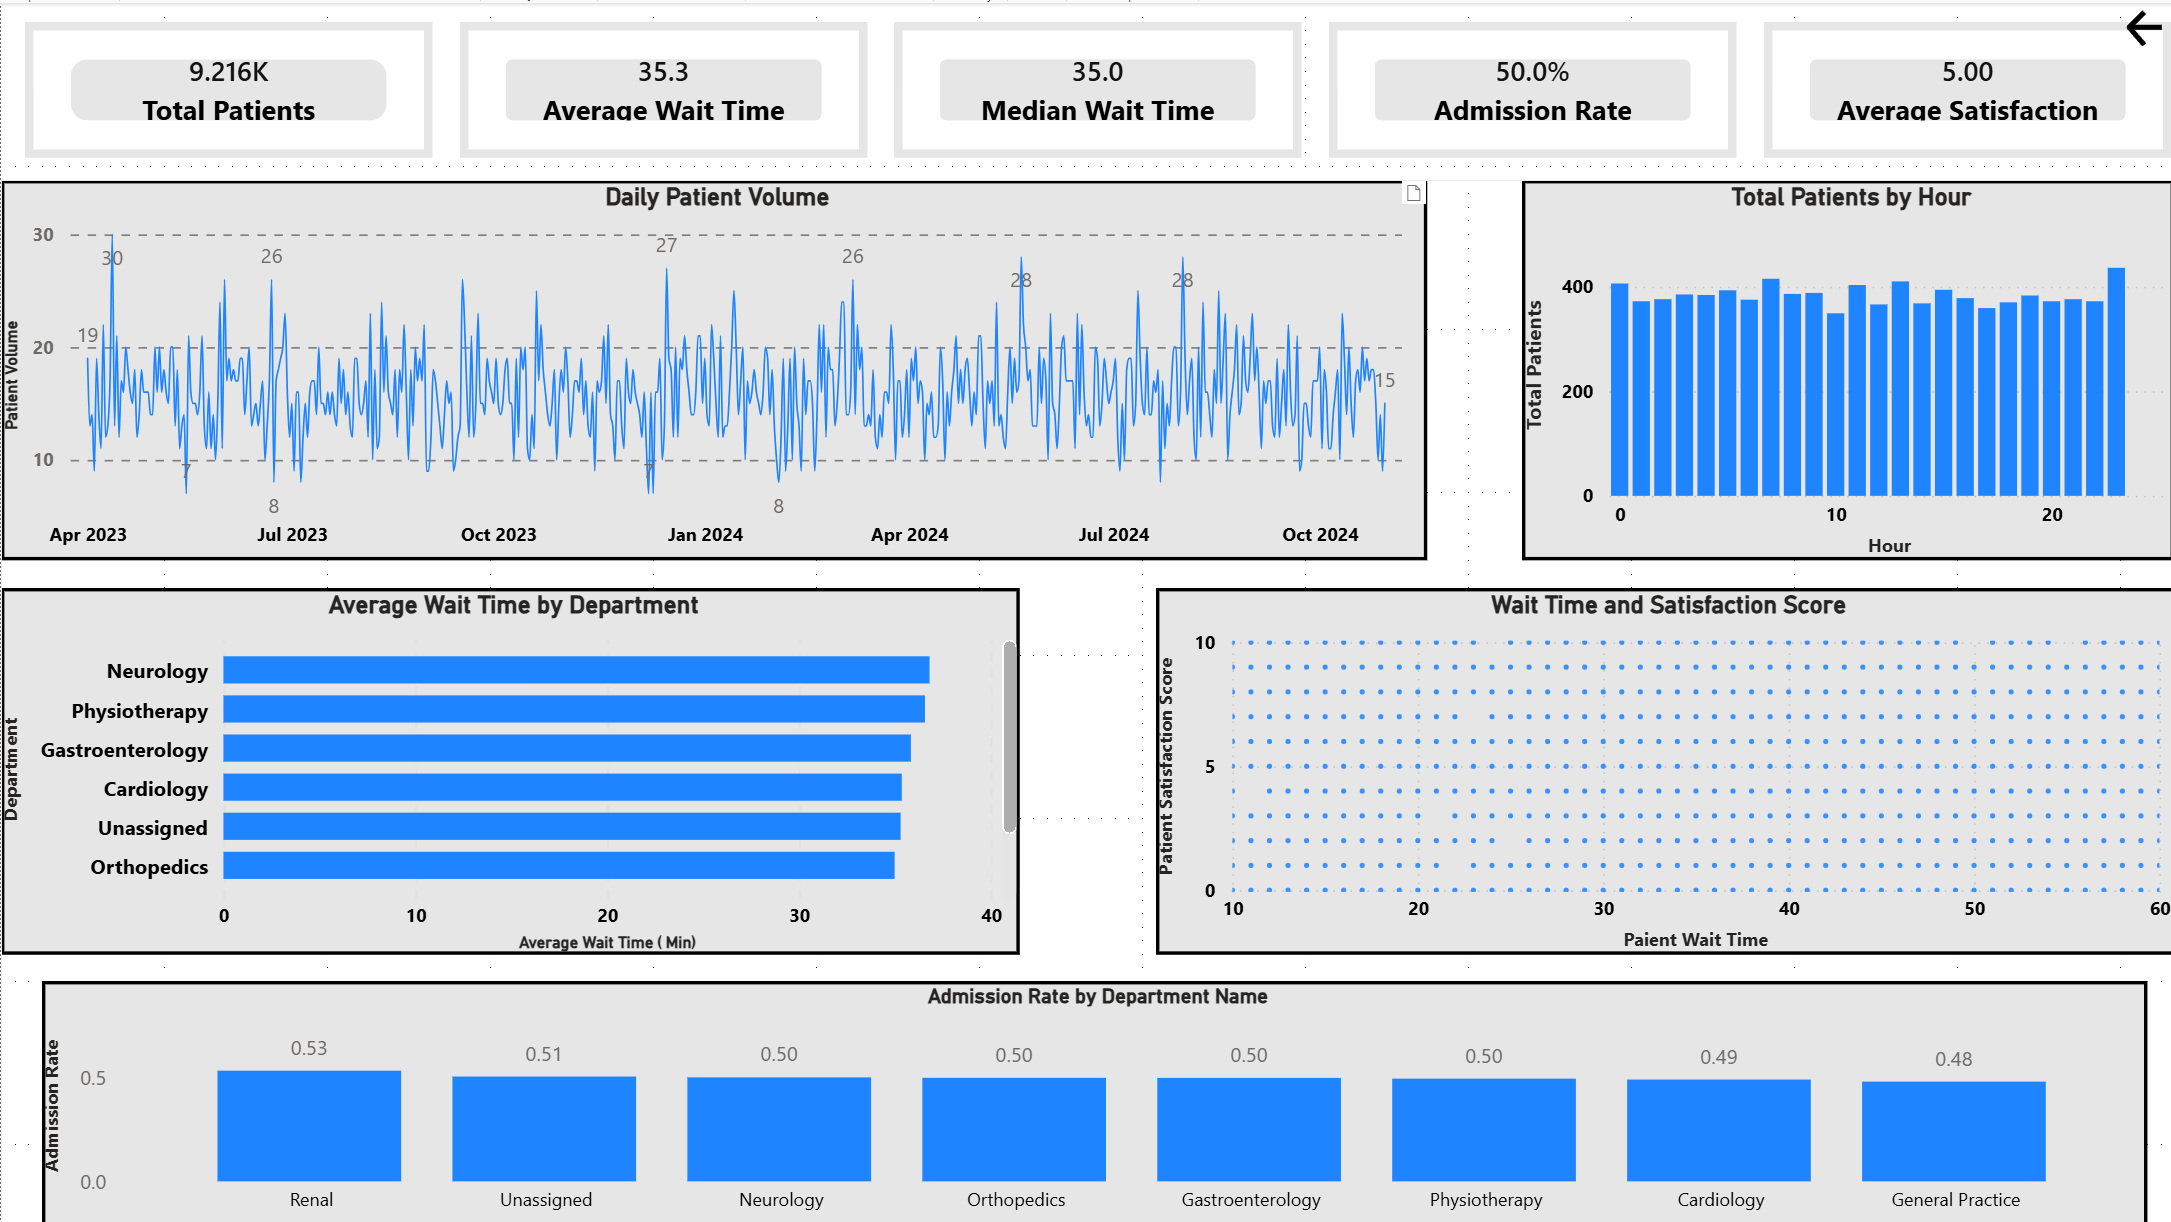

What the dashboard file says about the page in this screenshot:
{"tool":"powerbi","page":{"name":"Patient Flow Overview","canvas":[1280,720],"ordinal":0},"visuals":[{"type":"group","id":"g1","title":"KPIs","box":[14.4,11.3,1264,80],"z":0},{"type":"cardVisual","fields":{"Data":["Fact_PatientFlow.Total Patients"]},"box":[14.4,11.3,240,80],"z":0,"group":"g1"},{"type":"lineChart","title":"Daily Patient Volume","fields":{"Y":["Fact_PatientFlow.Daily Patient Volume"],"Category":["dim_Date.Date"]},"box":[0,104,840,224],"z":0,"group":"g2"},{"type":"cardVisual","fields":{"Data":["Fact_PatientFlow.Average Wait Time"]},"box":[270.4,11.3,240,80],"z":1000,"group":"g1"},{"type":"columnChart","fields":{"Category":["dim_Time.Hour"],"Y":["Fact_PatientFlow.Total Patients"]},"box":[896,104,384,224],"z":1000,"group":"g2"},{"type":"cardVisual","fields":{"Data":["Fact_PatientFlow.Average Satisfaction"]},"box":[1038.4,11.3,240,80],"z":2000,"group":"g1"},{"type":"group","id":"g2","title":"Charts","box":[0,104,1280,616],"z":2000},{"type":"barChart","title":"Average Wait Time by Department","fields":{"Y":["Fact_PatientFlow.Average Wait Time"],"Category":["dim_Department.Department Name"]},"box":[0,344,600,216],"z":2000,"group":"g2"},{"type":"actionButton","title":"Toggle Button Open","box":[1248,0,30,30],"z":2500},{"type":"cardVisual","fields":{"Data":["Fact_PatientFlow.Admission Rate"]},"box":[782.4,11.3,240,80],"z":3000,"group":"g1"},{"type":"columnChart","fields":{"Category":["dim_Department.Department Name"],"Y":["Fact_PatientFlow.Admission Rate"]},"box":[24,576,1240,144],"z":3000,"group":"g2"},{"type":"cardVisual","fields":{"Data":["Fact_PatientFlow.Median Wait Time"]},"box":[526.4,11.3,240,80],"z":4000,"group":"g1"},{"type":"scatterChart","title":"Wait Time and Satisfaction Score","fields":{"X":["Fact_PatientFlow.Patient Waittime"],"Y":["Fact_PatientFlow.Patient Satisfaction Score"]},"box":[680,344,600,216],"z":4000,"group":"g2"}]}

Visuals, with their boxes in screenshot pixels (x1, y1, x2, y2), scaled from the page's 1280x720 canvas onto the 2171x1222 screenshot:
"KPIs" group: [x1=24, y1=19, x2=2168, y2=155]
cardVisual - Fact_PatientFlow.Total Patients: [x1=24, y1=19, x2=431, y2=155]
"Daily Patient Volume" lineChart: [x1=0, y1=177, x2=1425, y2=557]
cardVisual - Fact_PatientFlow.Average Wait Time: [x1=459, y1=19, x2=866, y2=155]
columnChart - dim_Time.Hour x Fact_PatientFlow.Total Patients: [x1=1520, y1=177, x2=2170, y2=557]
cardVisual - Fact_PatientFlow.Average Satisfaction: [x1=1761, y1=19, x2=2168, y2=155]
"Charts" group: [x1=0, y1=177, x2=2170, y2=1221]
"Average Wait Time by Department" barChart: [x1=0, y1=584, x2=1018, y2=950]
"Toggle Button Open" actionButton: [x1=2117, y1=0, x2=2168, y2=51]
cardVisual - Fact_PatientFlow.Admission Rate: [x1=1327, y1=19, x2=1734, y2=155]
columnChart - dim_Department.Department Name x Fact_PatientFlow.Admission Rate: [x1=41, y1=978, x2=2144, y2=1221]
cardVisual - Fact_PatientFlow.Median Wait Time: [x1=893, y1=19, x2=1300, y2=155]
"Wait Time and Satisfaction Score" scatterChart: [x1=1153, y1=584, x2=2170, y2=950]
